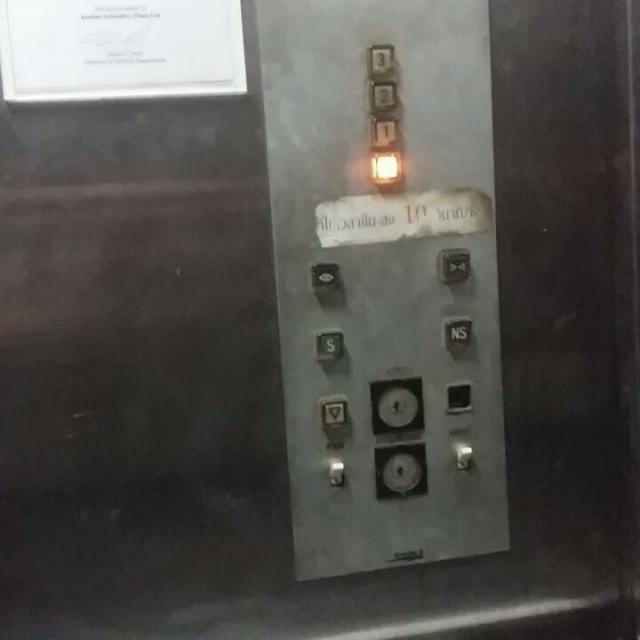1: (371, 118, 398, 146)
2: (372, 82, 394, 109)
3: (367, 44, 393, 73)
NS: (441, 317, 474, 351)
S: (314, 327, 346, 364)
bt_keyhole: (372, 441, 429, 499), (370, 375, 421, 432)
close: (438, 249, 470, 283)
down: (319, 396, 348, 429)
empty: (444, 382, 473, 412), (374, 153, 399, 179)
open: (309, 260, 342, 292)
switch: (451, 441, 473, 470), (326, 458, 345, 486)
